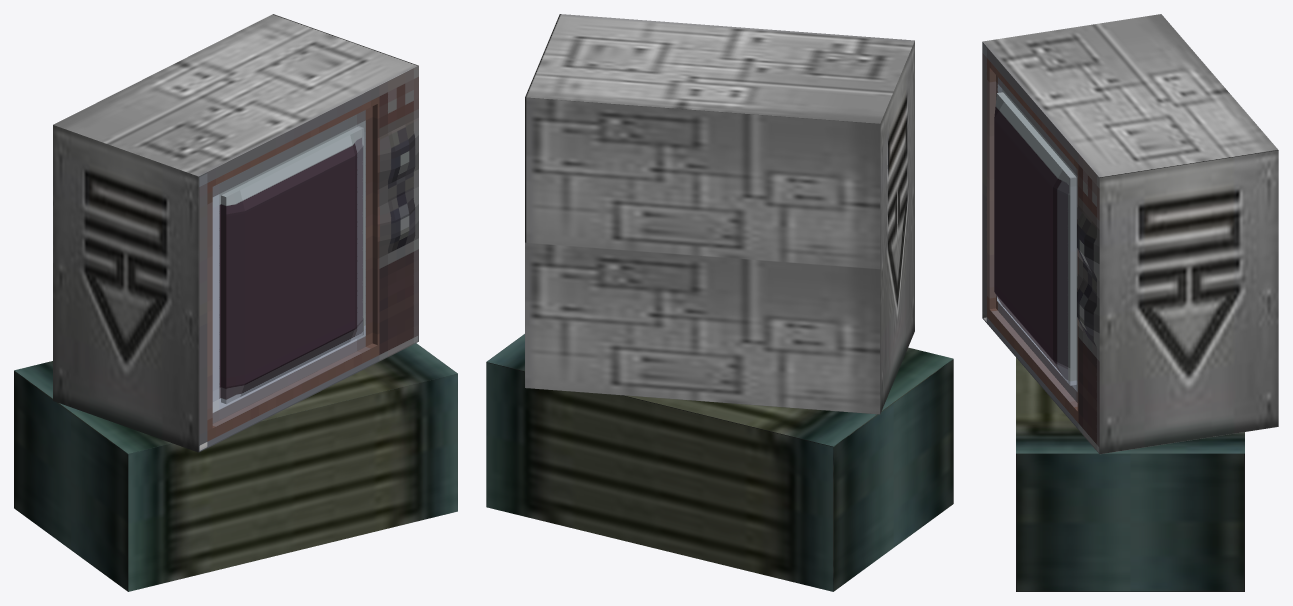
The picture shows the model from 3 angles, left to right: view 1: azimuth 30°, elevation 25°; view 2: azimuth 150°, elevation 25°; view 3: azimuth 270°, elevation 25°; orthographic projection. The views are drawn at different scales.
Parts seen in each view (by area): view 1: Cube.001, Cube; view 2: Cube.001, Cube; view 3: Cube.001, Cube.
Part boxes in pixels (x1=…): Cube.001: x1=53, y1=14, x2=418, y2=452; Cube: x1=14, y1=343, x2=457, y2=591; Cube.001: x1=525, y1=14, x2=914, y2=414; Cube: x1=486, y1=334, x2=953, y2=591; Cube.001: x1=982, y1=14, x2=1278, y2=454; Cube: x1=1016, y1=358, x2=1244, y2=591.
Size of the model in its own units: 203 by 240 by 156.
Materials: 2 (2 with a texture image).
